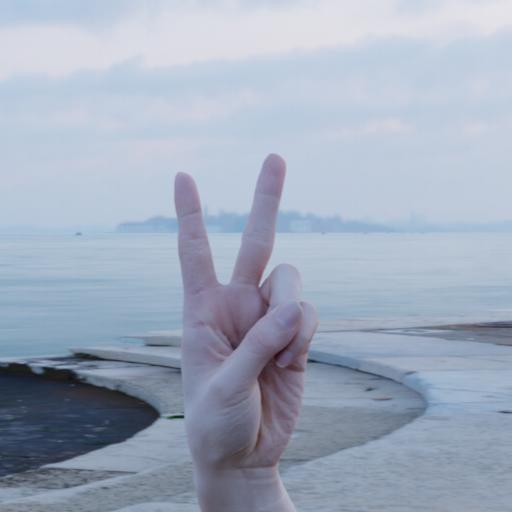V: (150, 142, 362, 474)
